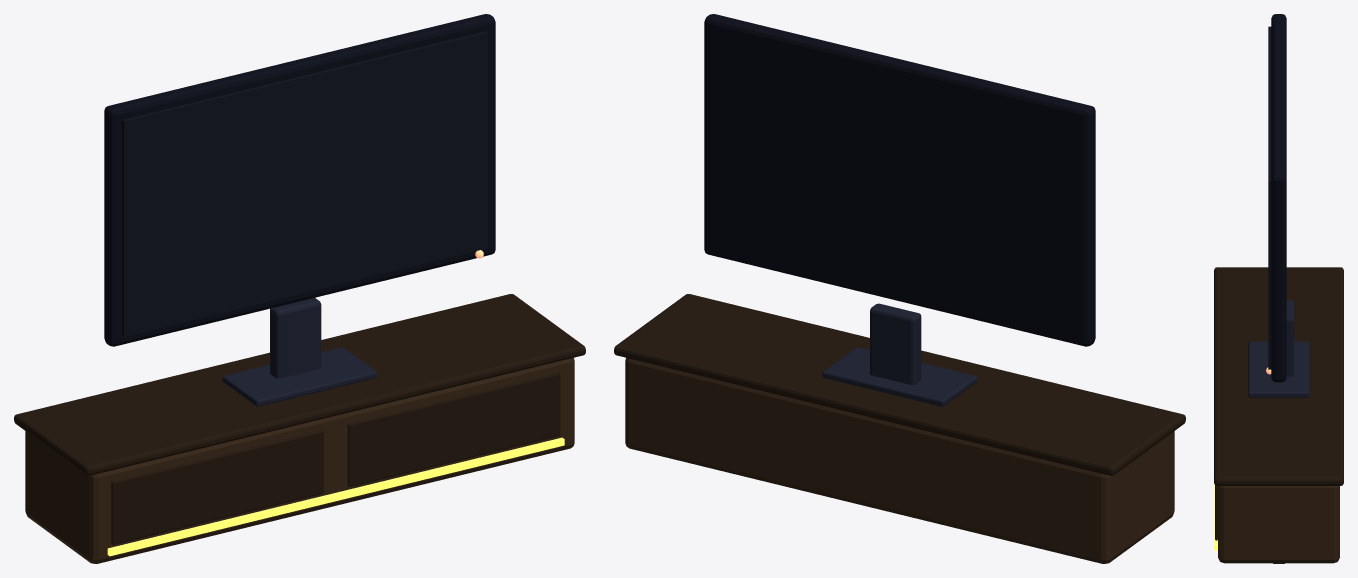
File: flat_tv.glb
The picture shows the model from 3 angles, left to right: view 1: azimuth 30°, elevation 25°; view 2: azimuth 150°, elevation 25°; view 3: azimuth 270°, elevation 25°; orthographic projection. The views are drawn at different scales.
Visible parts, largest first — view 1: screen, consoletop, console, frame, door1, door-1, foot, consolestrip, neck; view 2: frame, console, consoletop, neck, foot; view 3: consoletop, console, frame, foot, screen, neck.
Part boxes in pixels (x1,y1,x2,y2): screen: (122, 31, 487, 336); consoletop: (14, 294, 585, 475); console: (25, 357, 574, 563); frame: (104, 14, 495, 346); door1: (347, 372, 560, 486); door-1: (111, 430, 323, 544); foot: (222, 347, 377, 406); consolestrip: (107, 437, 564, 556); neck: (270, 298, 321, 378); frame: (704, 14, 1095, 346); console: (625, 357, 1174, 563); consoletop: (614, 294, 1185, 475); neck: (870, 303, 921, 384); foot: (822, 347, 977, 406); consoletop: (1214, 267, 1343, 485); console: (1218, 486, 1339, 563); frame: (1271, 14, 1286, 382); foot: (1248, 341, 1309, 397); screen: (1268, 26, 1271, 369); neck: (1286, 300, 1294, 376).
Bounding box in the file's own units: 3.3 × 2.7 × 0.85.
